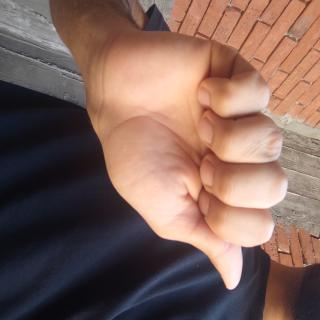DAD: (12, 34, 222, 320)
